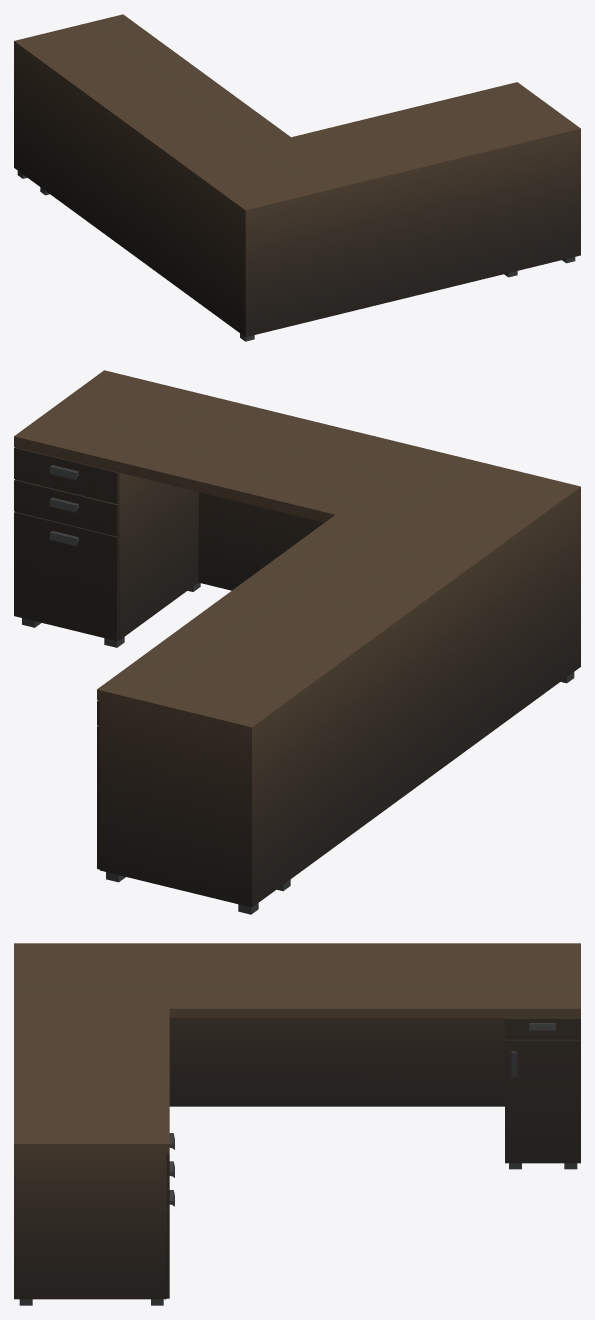
Rendered from Desk_Corner_Booth_D.fbx.
3 renders of one model, top to bottom at view 1: azimuth 30°, elevation 25°; view 2: azimuth 150°, elevation 25°; view 3: azimuth 270°, elevation 25°, orthographic. The views are drawn at different scales.
Visible parts, largest first — view 1: Desk_Corner_Booth_D; view 2: Desk_Corner_Booth_D; view 3: Desk_Corner_Booth_D.
Part boxes in pixels (<box>): Desk_Corner_Booth_D: <box>14,14,580,341</box>; Desk_Corner_Booth_D: <box>14,370,580,914</box>; Desk_Corner_Booth_D: <box>14,943,580,1305</box>.
Bounding box in the file's own units: 184 × 70 × 220.
